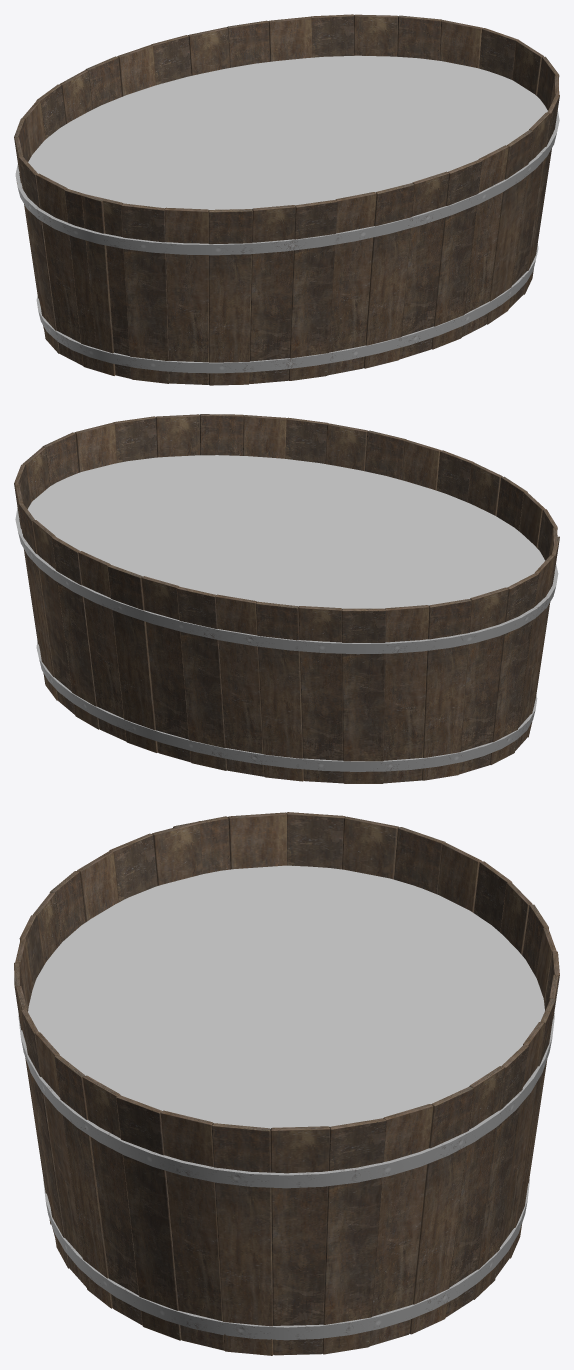
File: SM_WaterTub_A.fbx
3 views of the same model, one above another, from view 1: azimuth 30°, elevation 25°; view 2: azimuth 150°, elevation 25°; view 3: azimuth 270°, elevation 25° (orthographic). The views are drawn at different scales.
Parts seen in each view (by area): view 1: SM_WaterTub_A_LOD0; view 2: SM_WaterTub_A_LOD0; view 3: SM_WaterTub_A_LOD0.
Part boxes in pixels (x1,y1,x2,y2): SM_WaterTub_A_LOD0: [14, 14, 559, 385]; SM_WaterTub_A_LOD0: [14, 414, 559, 783]; SM_WaterTub_A_LOD0: [14, 812, 559, 1355].
Size of the model in its own units: 186 by 134 by 65.45.
Materials: 2 (1 with a texture image).
